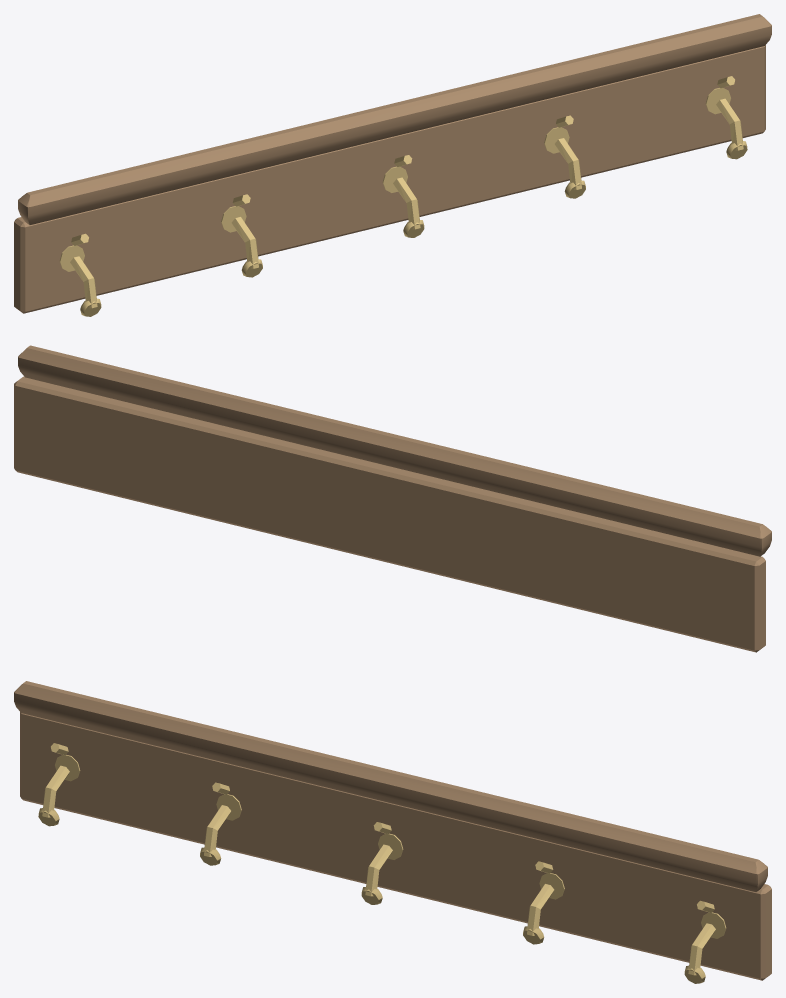
File: bar-pub-and-brewery-taproom-coat-hook-rail-8bfffa05__18417.glb
3 views of the same model, one above another, from view 1: azimuth 30°, elevation 25°; view 2: azimuth 150°, elevation 25°; view 3: azimuth 330°, elevation 25° (orthographic).
Parts seen in each view (by area): view 1: coat-hook-rail; view 2: coat-hook-rail; view 3: coat-hook-rail.
Part boxes in pixels (bbox=[...]): coat-hook-rail: bbox=[14, 14, 771, 316]; coat-hook-rail: bbox=[14, 345, 771, 652]; coat-hook-rail: bbox=[14, 681, 771, 983].
Size of the model in its own units: 1.2 by 0.185 by 0.0917.
